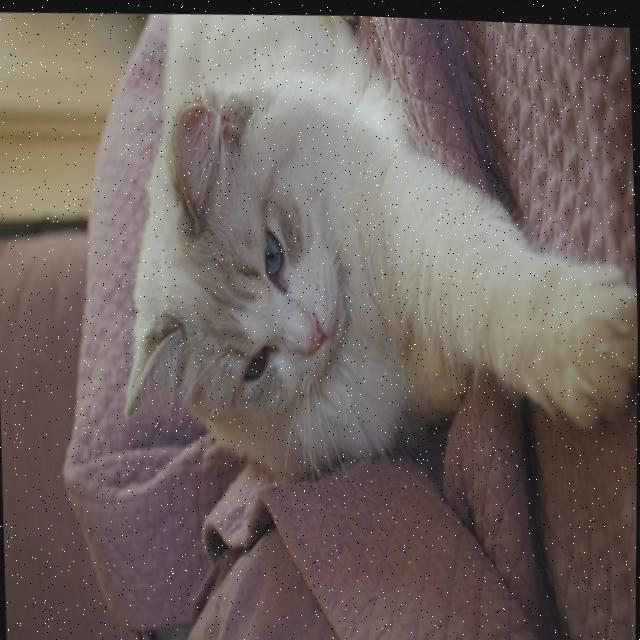Ragdoll: (100, 4, 640, 506)
